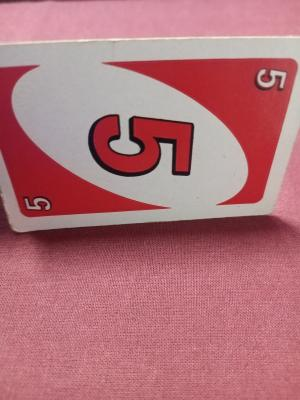num_5: (250, 60, 290, 98), (17, 188, 55, 219)
